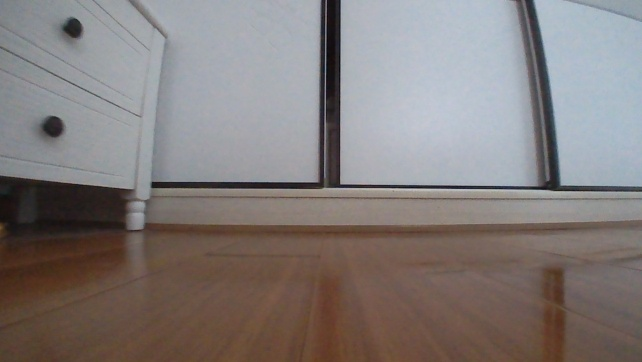cabinet: (0, 0, 169, 239)
